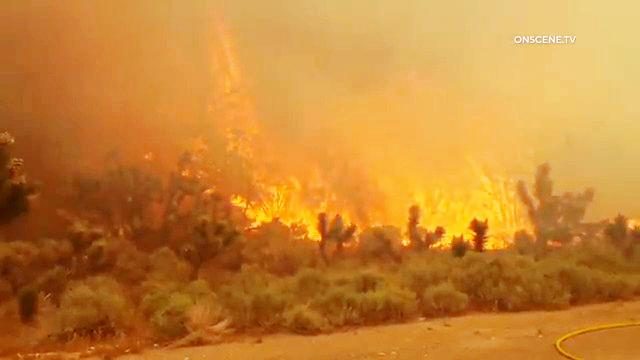fire: (247, 166, 519, 235)
